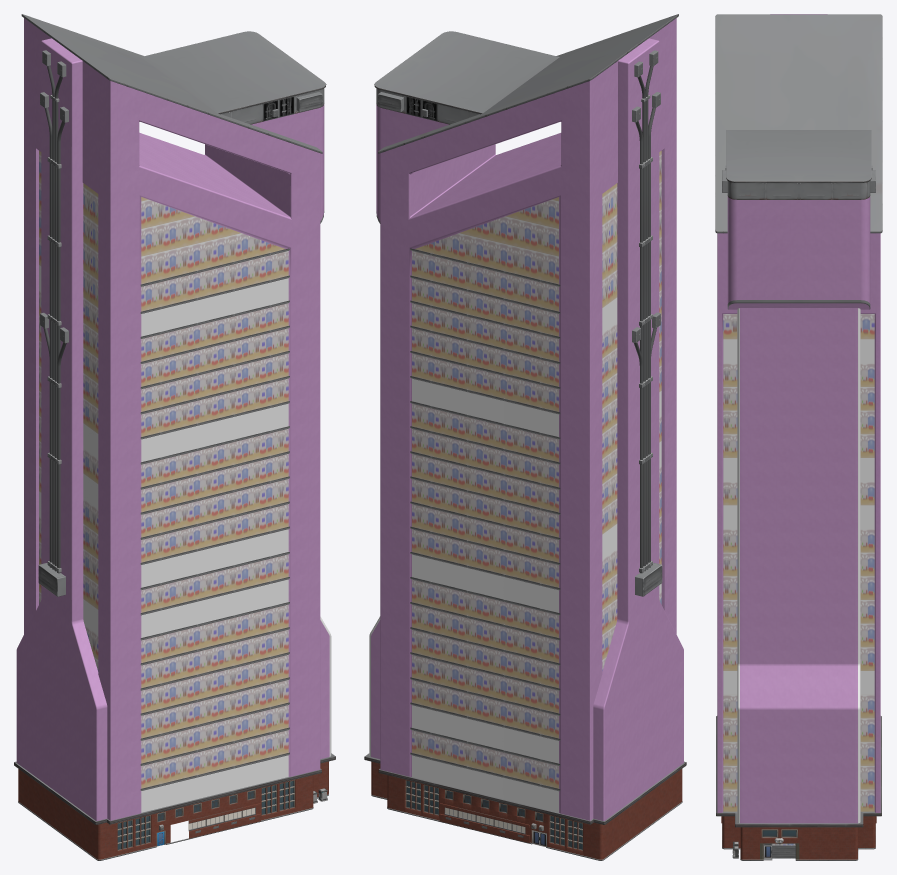
File: Building5.gltf
3 views of the same model, side by side, from view 1: azimuth 30°, elevation 25°; view 2: azimuth 150°, elevation 25°; view 3: azimuth 270°, elevation 25° (orthographic). The views are drawn at different scales.
Visible parts, largest first — view 1: SM_Skyscraper_01, SM_Window_6x3_01_2, SM_Window_6x3_01, SM_Window_6x3_01_3, SM_Window_6x3_01_1; view 2: SM_Skyscraper_01; view 3: SM_Skyscraper_01, SM_Door_3x6_04.
Part boxes in pixels (x1,y1,x2,y2): SM_Skyscraper_01: (14,14,335,824); SM_Window_6x3_01_2: (134,814,152,851); SM_Window_6x3_01: (116,819,134,855); SM_Window_6x3_01_3: (278,779,296,815); SM_Window_6x3_01_1: (260,783,278,820); SM_Skyscraper_01: (364,14,686,824); SM_Skyscraper_01: (715,14,882,827); SM_Door_3x6_04: (760,843,799,860).
Size of the model in its own units: 42.44 by 125 by 25.6.
